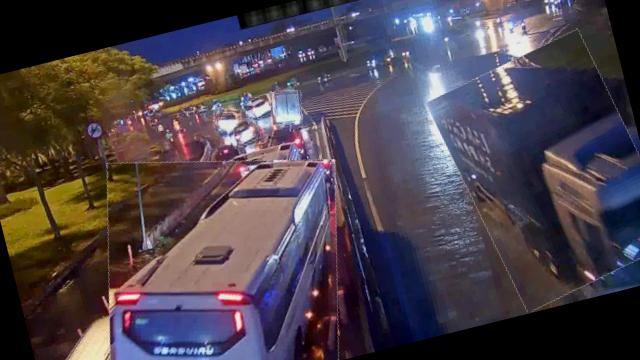Bus: (71, 123, 372, 360)
Car: (226, 117, 262, 149), (212, 105, 244, 136), (242, 93, 275, 122)
Truck: (430, 28, 640, 315), (265, 86, 306, 130)
